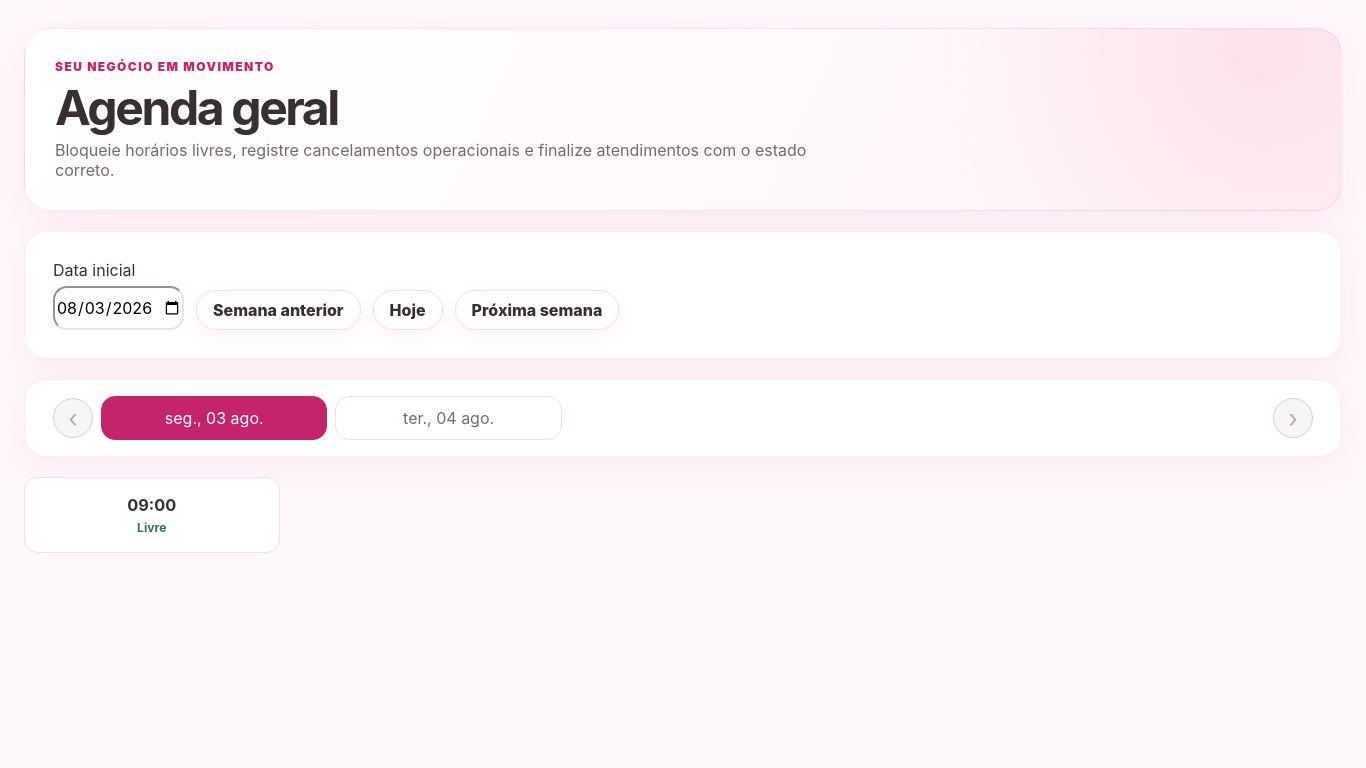
Scenario: agenda do negócio › explica quando a data escolhida não possui profissional disponível
Expected: the button "seg., 03 ago." is shown, [101,396,327,440]
Click the button "ter., 04 ago." at (449,418), box [335,396,562,440]
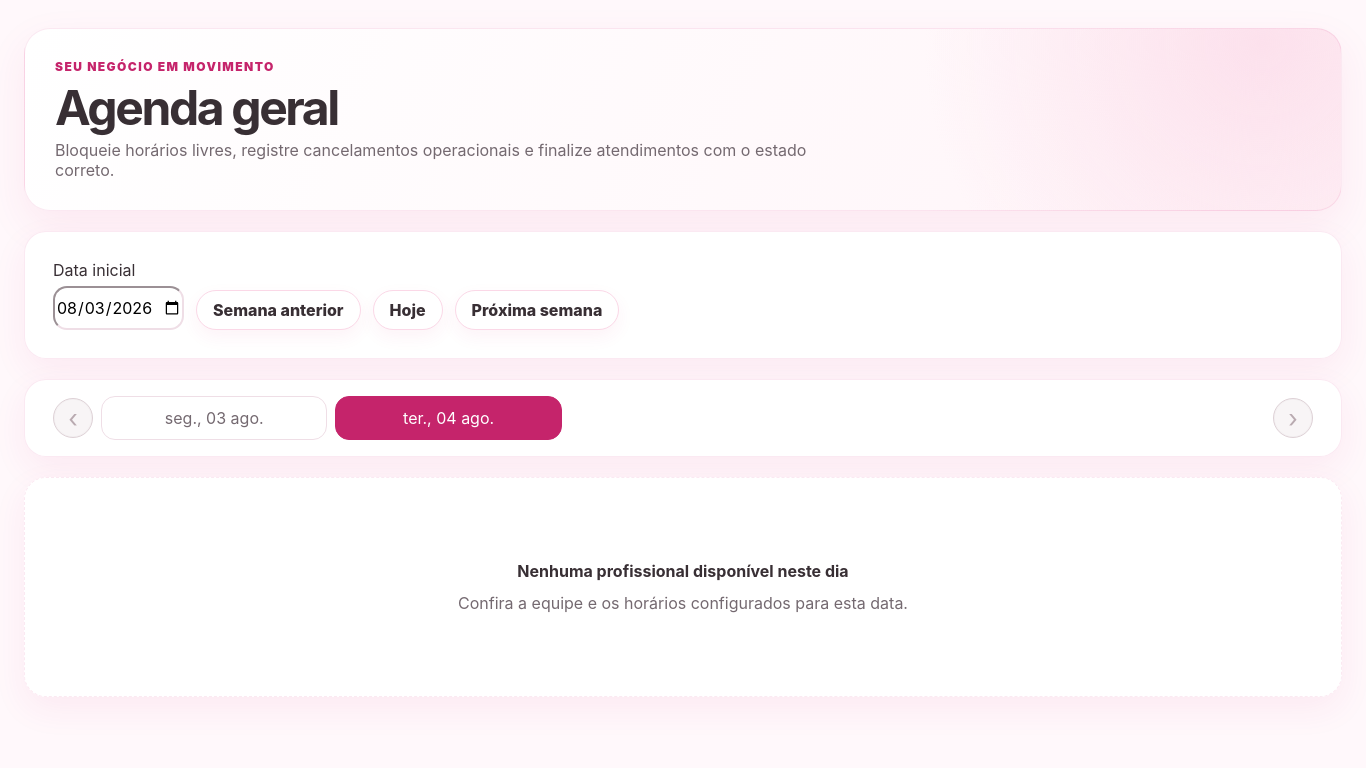
Expected: the text "Nenhuma profissional disponível neste dia" is shown, [517,561,849,581]
